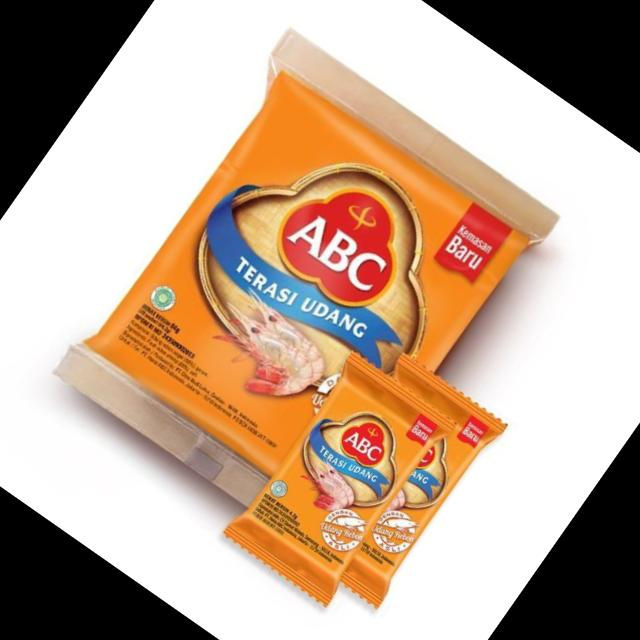KemasanPlastik: (34, 9, 574, 572), (210, 311, 519, 640)
